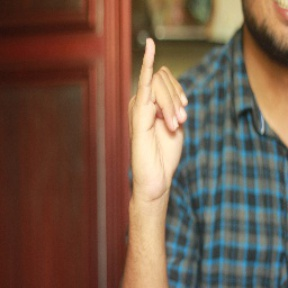I: (122, 35, 192, 198)
